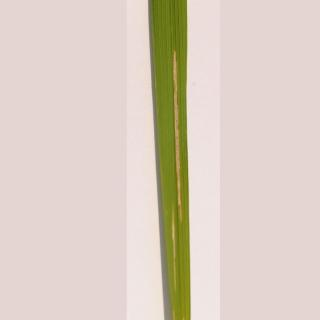Hawar-Daun: (160, 57, 198, 297)
